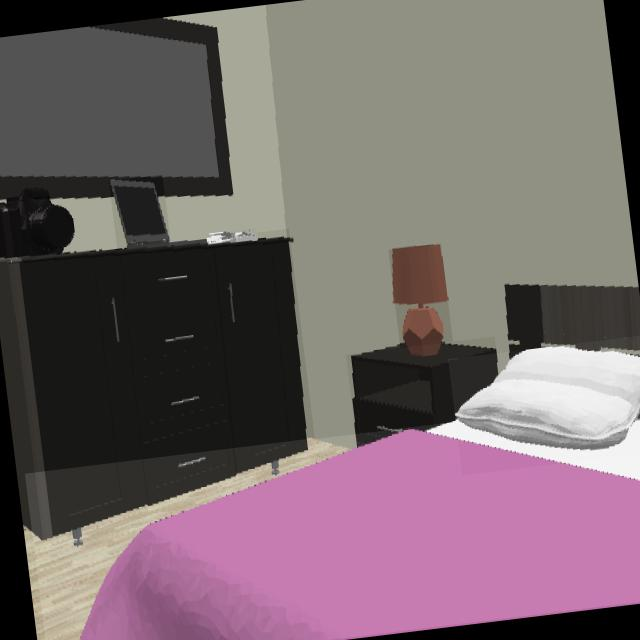bed: (78, 421, 640, 640)
book: (207, 231, 257, 246)
cabinet: (0, 238, 309, 532)
lamp: (394, 245, 447, 358)
laptop: (110, 180, 169, 246)
nighttable: (352, 346, 498, 447)
pillow: (455, 346, 640, 460)
